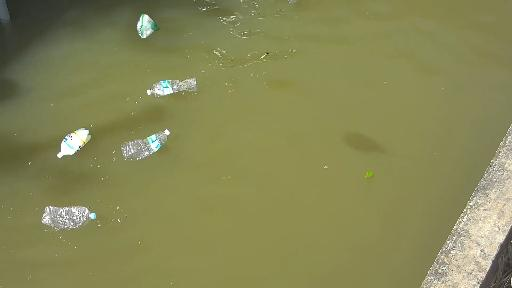leaf: (361, 167, 380, 182)
plastic: (94, 119, 174, 174), (135, 61, 210, 105), (48, 114, 98, 166), (42, 194, 101, 238), (119, 10, 161, 38)
